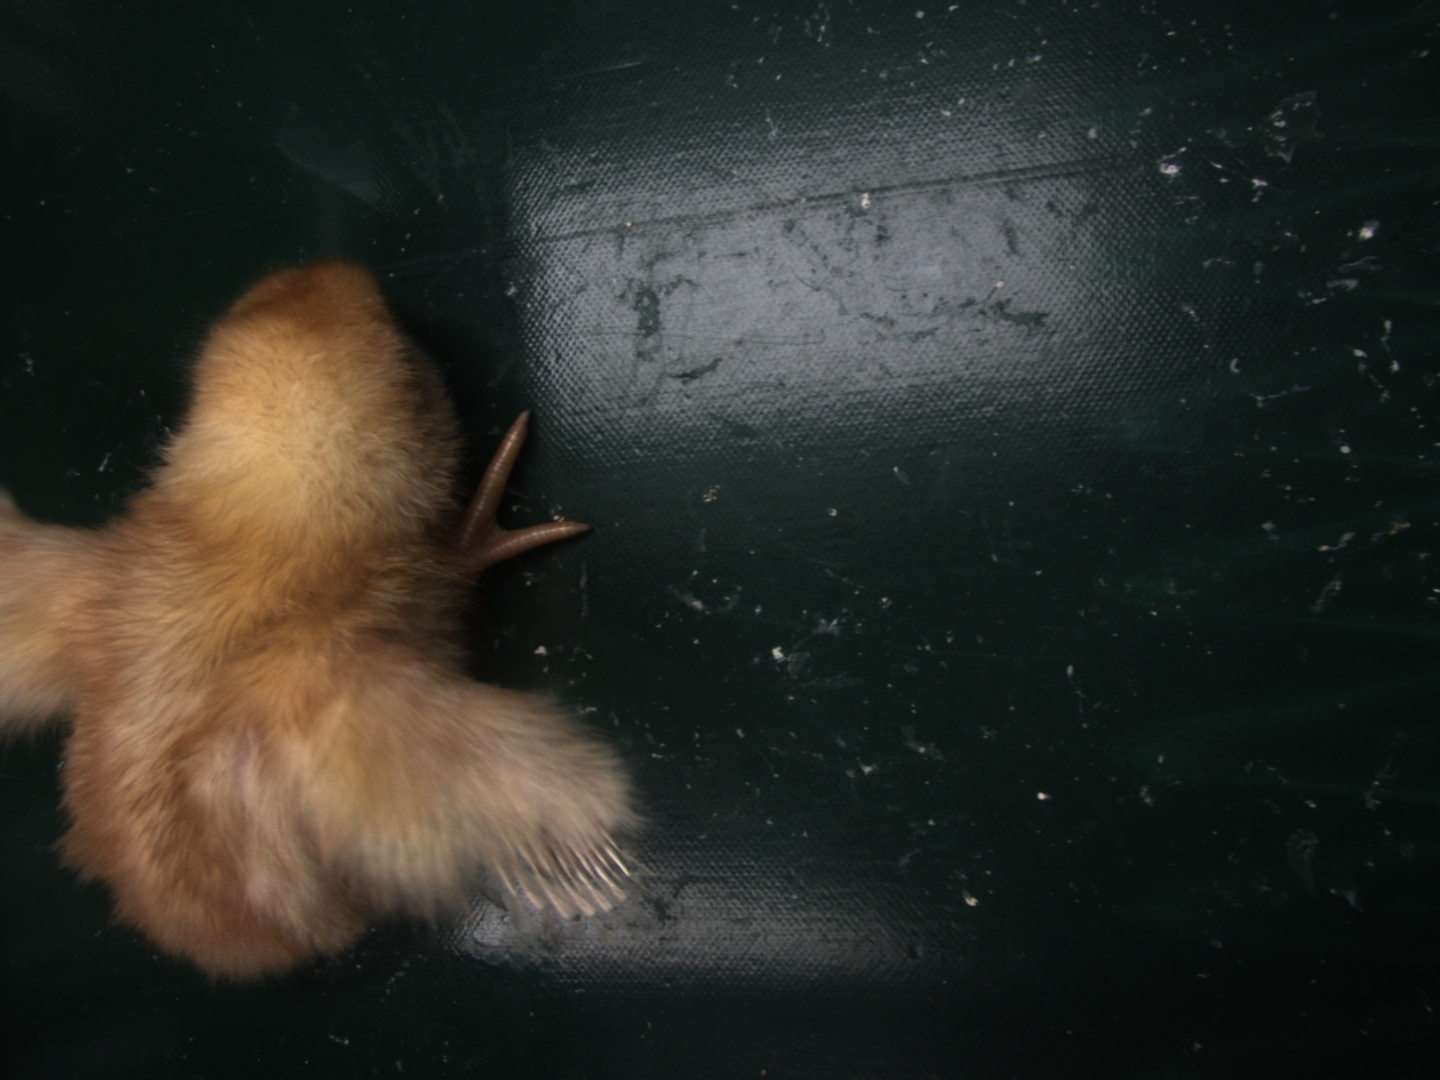female: (490, 824, 630, 918)
